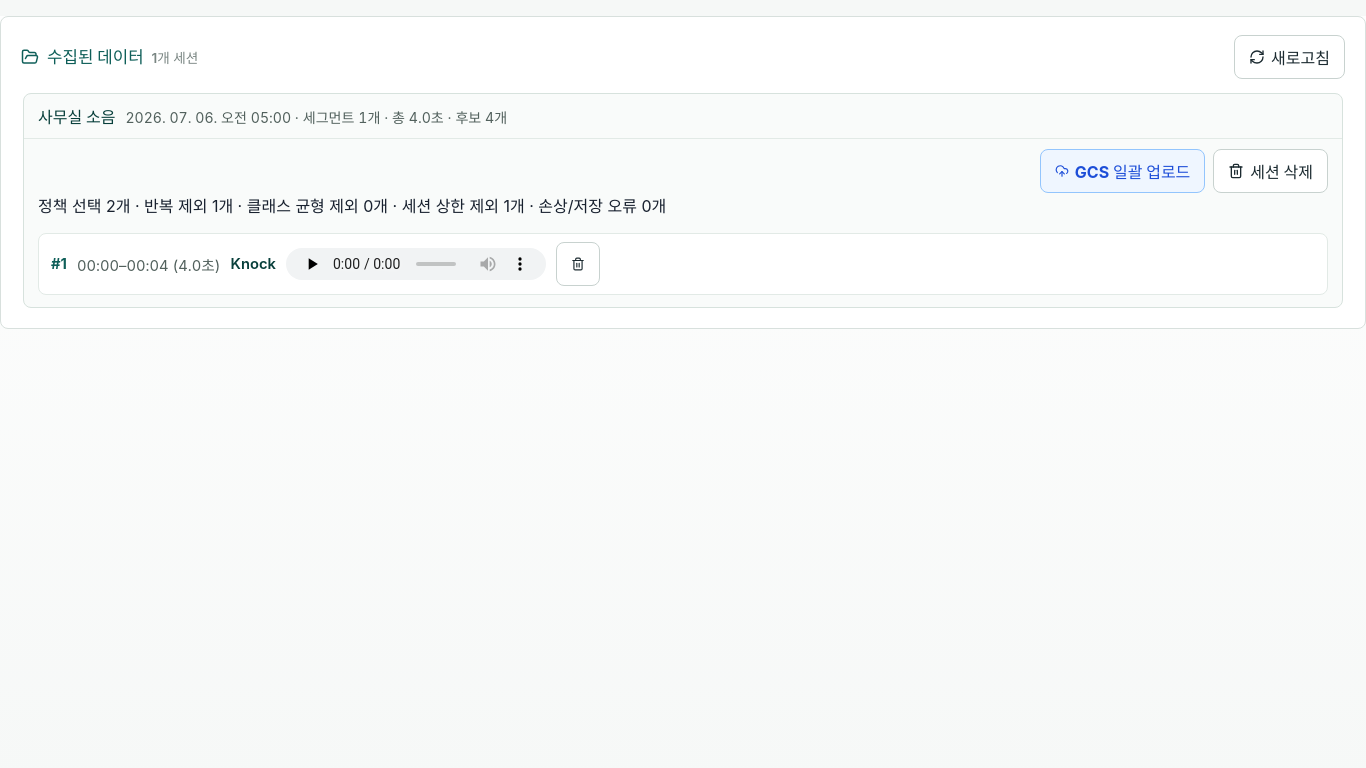
Scenario: CollectedSessionsPanel › allows a fresh export after deleting a segment from an uploaded session
Click the button with aria-label "사무실 소음 세션 GCS 일괄 업로드": (1123, 171) top-left (1040, 149), bottom-right (1205, 193)
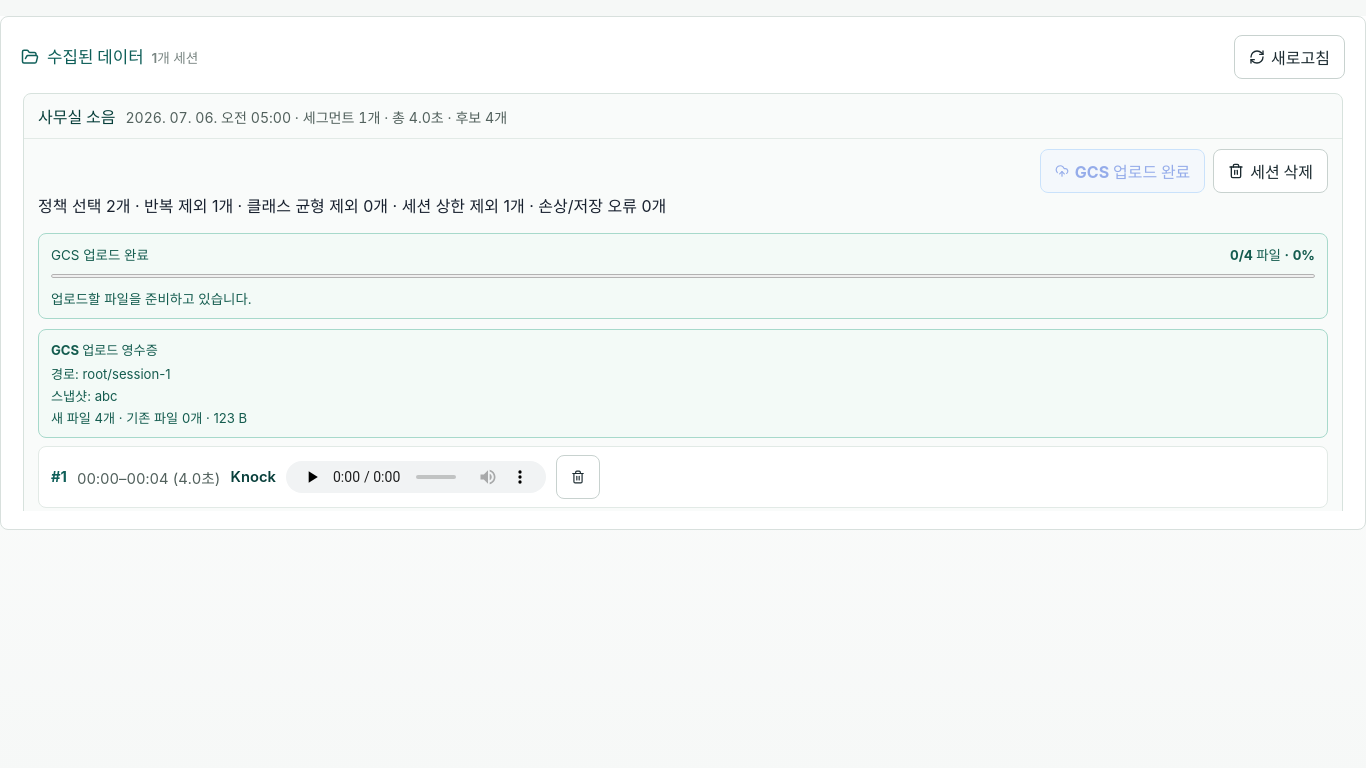
Check: the button with aria-label "사무실 소음 세션 GCS 일괄 업로드" reads "GCS 업로드 완료", box top-left (1040, 149), bottom-right (1205, 193)
Check: the button with aria-label "사무실 소음 세션 GCS 일괄 업로드" is disabled, box top-left (1040, 149), bottom-right (1205, 193)
Click the button named "세그먼트 1 삭제": (578, 477) top-left (556, 455), bottom-right (600, 499)
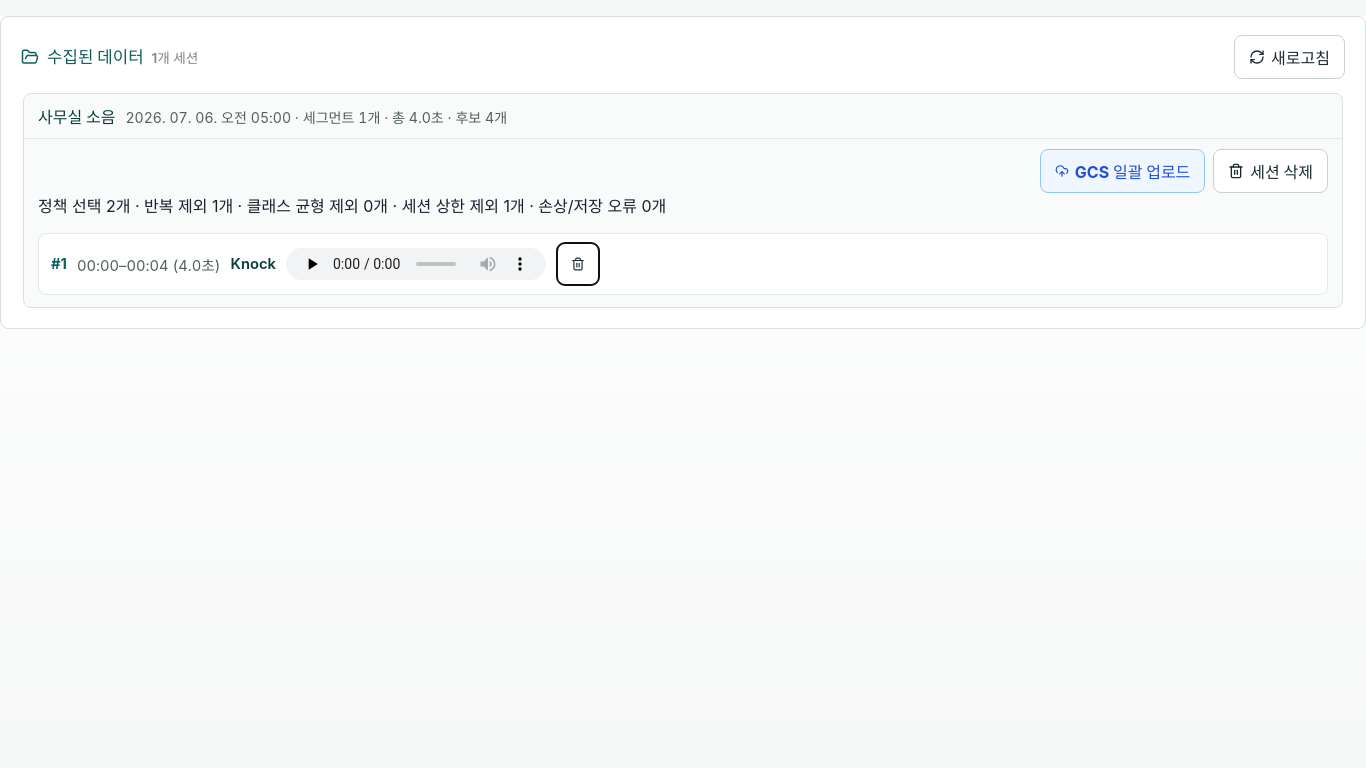
Check: the button with aria-label "사무실 소음 세션 GCS 일괄 업로드" reads "GCS 일괄 업로드", box top-left (1040, 149), bottom-right (1205, 193)
Check: the button with aria-label "사무실 소음 세션 GCS 일괄 업로드" is enabled, box top-left (1040, 149), bottom-right (1205, 193)
Check: the text "GCS 업로드 영수증" is gone
